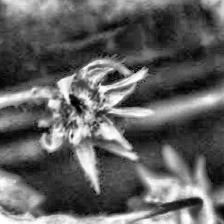Gray Mold: (29, 58, 154, 196)
